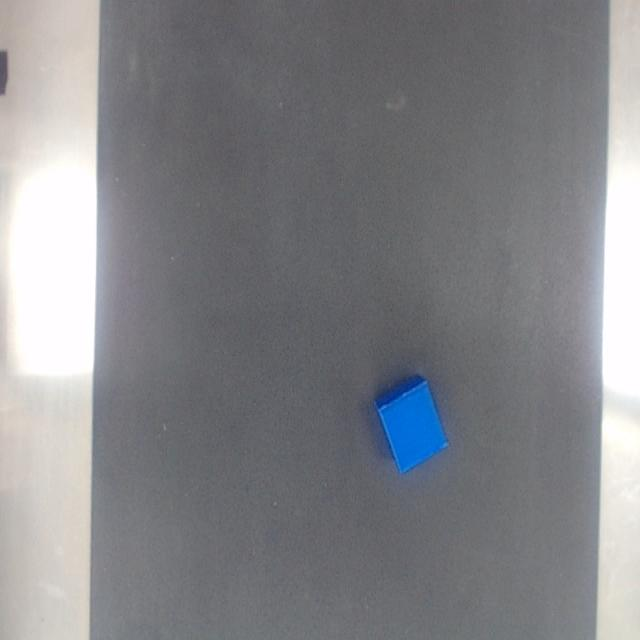Azul: (375, 375, 448, 472)
